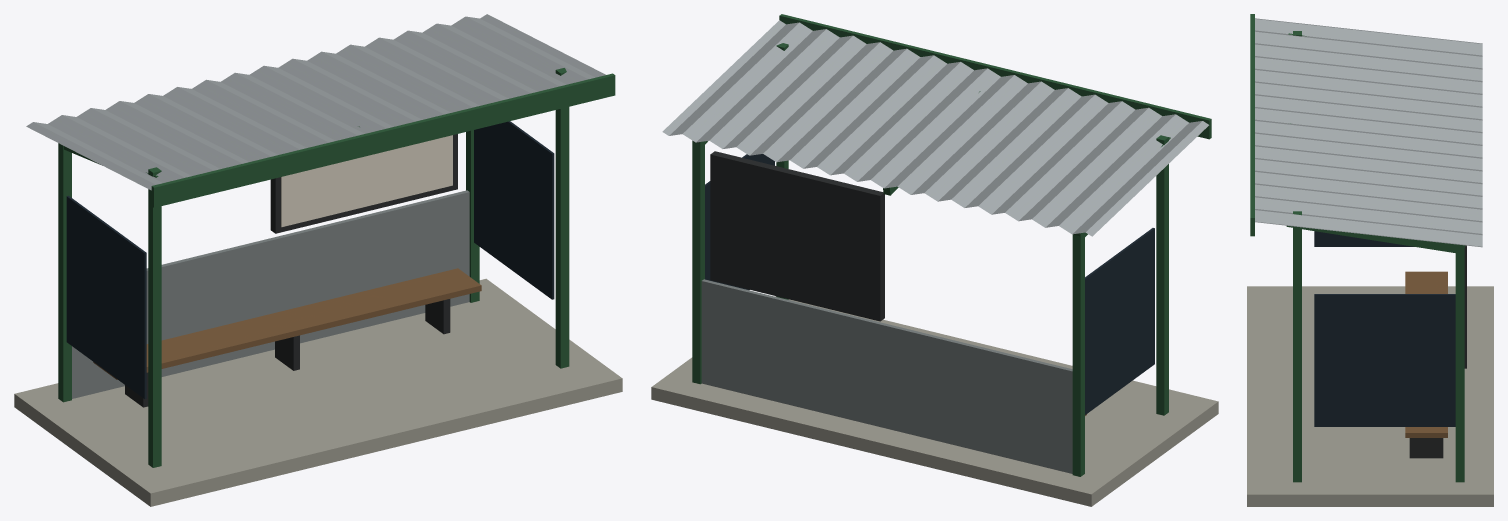
File: bus_shelter.glb
3 views of the same model, side by side, from view 1: azimuth 30°, elevation 25°; view 2: azimuth 150°, elevation 25°; view 3: azimuth 270°, elevation 25° (orthographic). The views are drawn at different scales.
Visible parts, largest first — view 1: bus_shelter; view 2: bus_shelter; view 3: bus_shelter.
Part boxes in pixels (x1,y1,x2,y2): bus_shelter: [14, 14, 622, 506]; bus_shelter: [651, 14, 1218, 506]; bus_shelter: [1247, 14, 1493, 506].
Size of the model in its own units: 4.4 by 2.82 by 2.2.
Materials: 1 (1 with a texture image).
